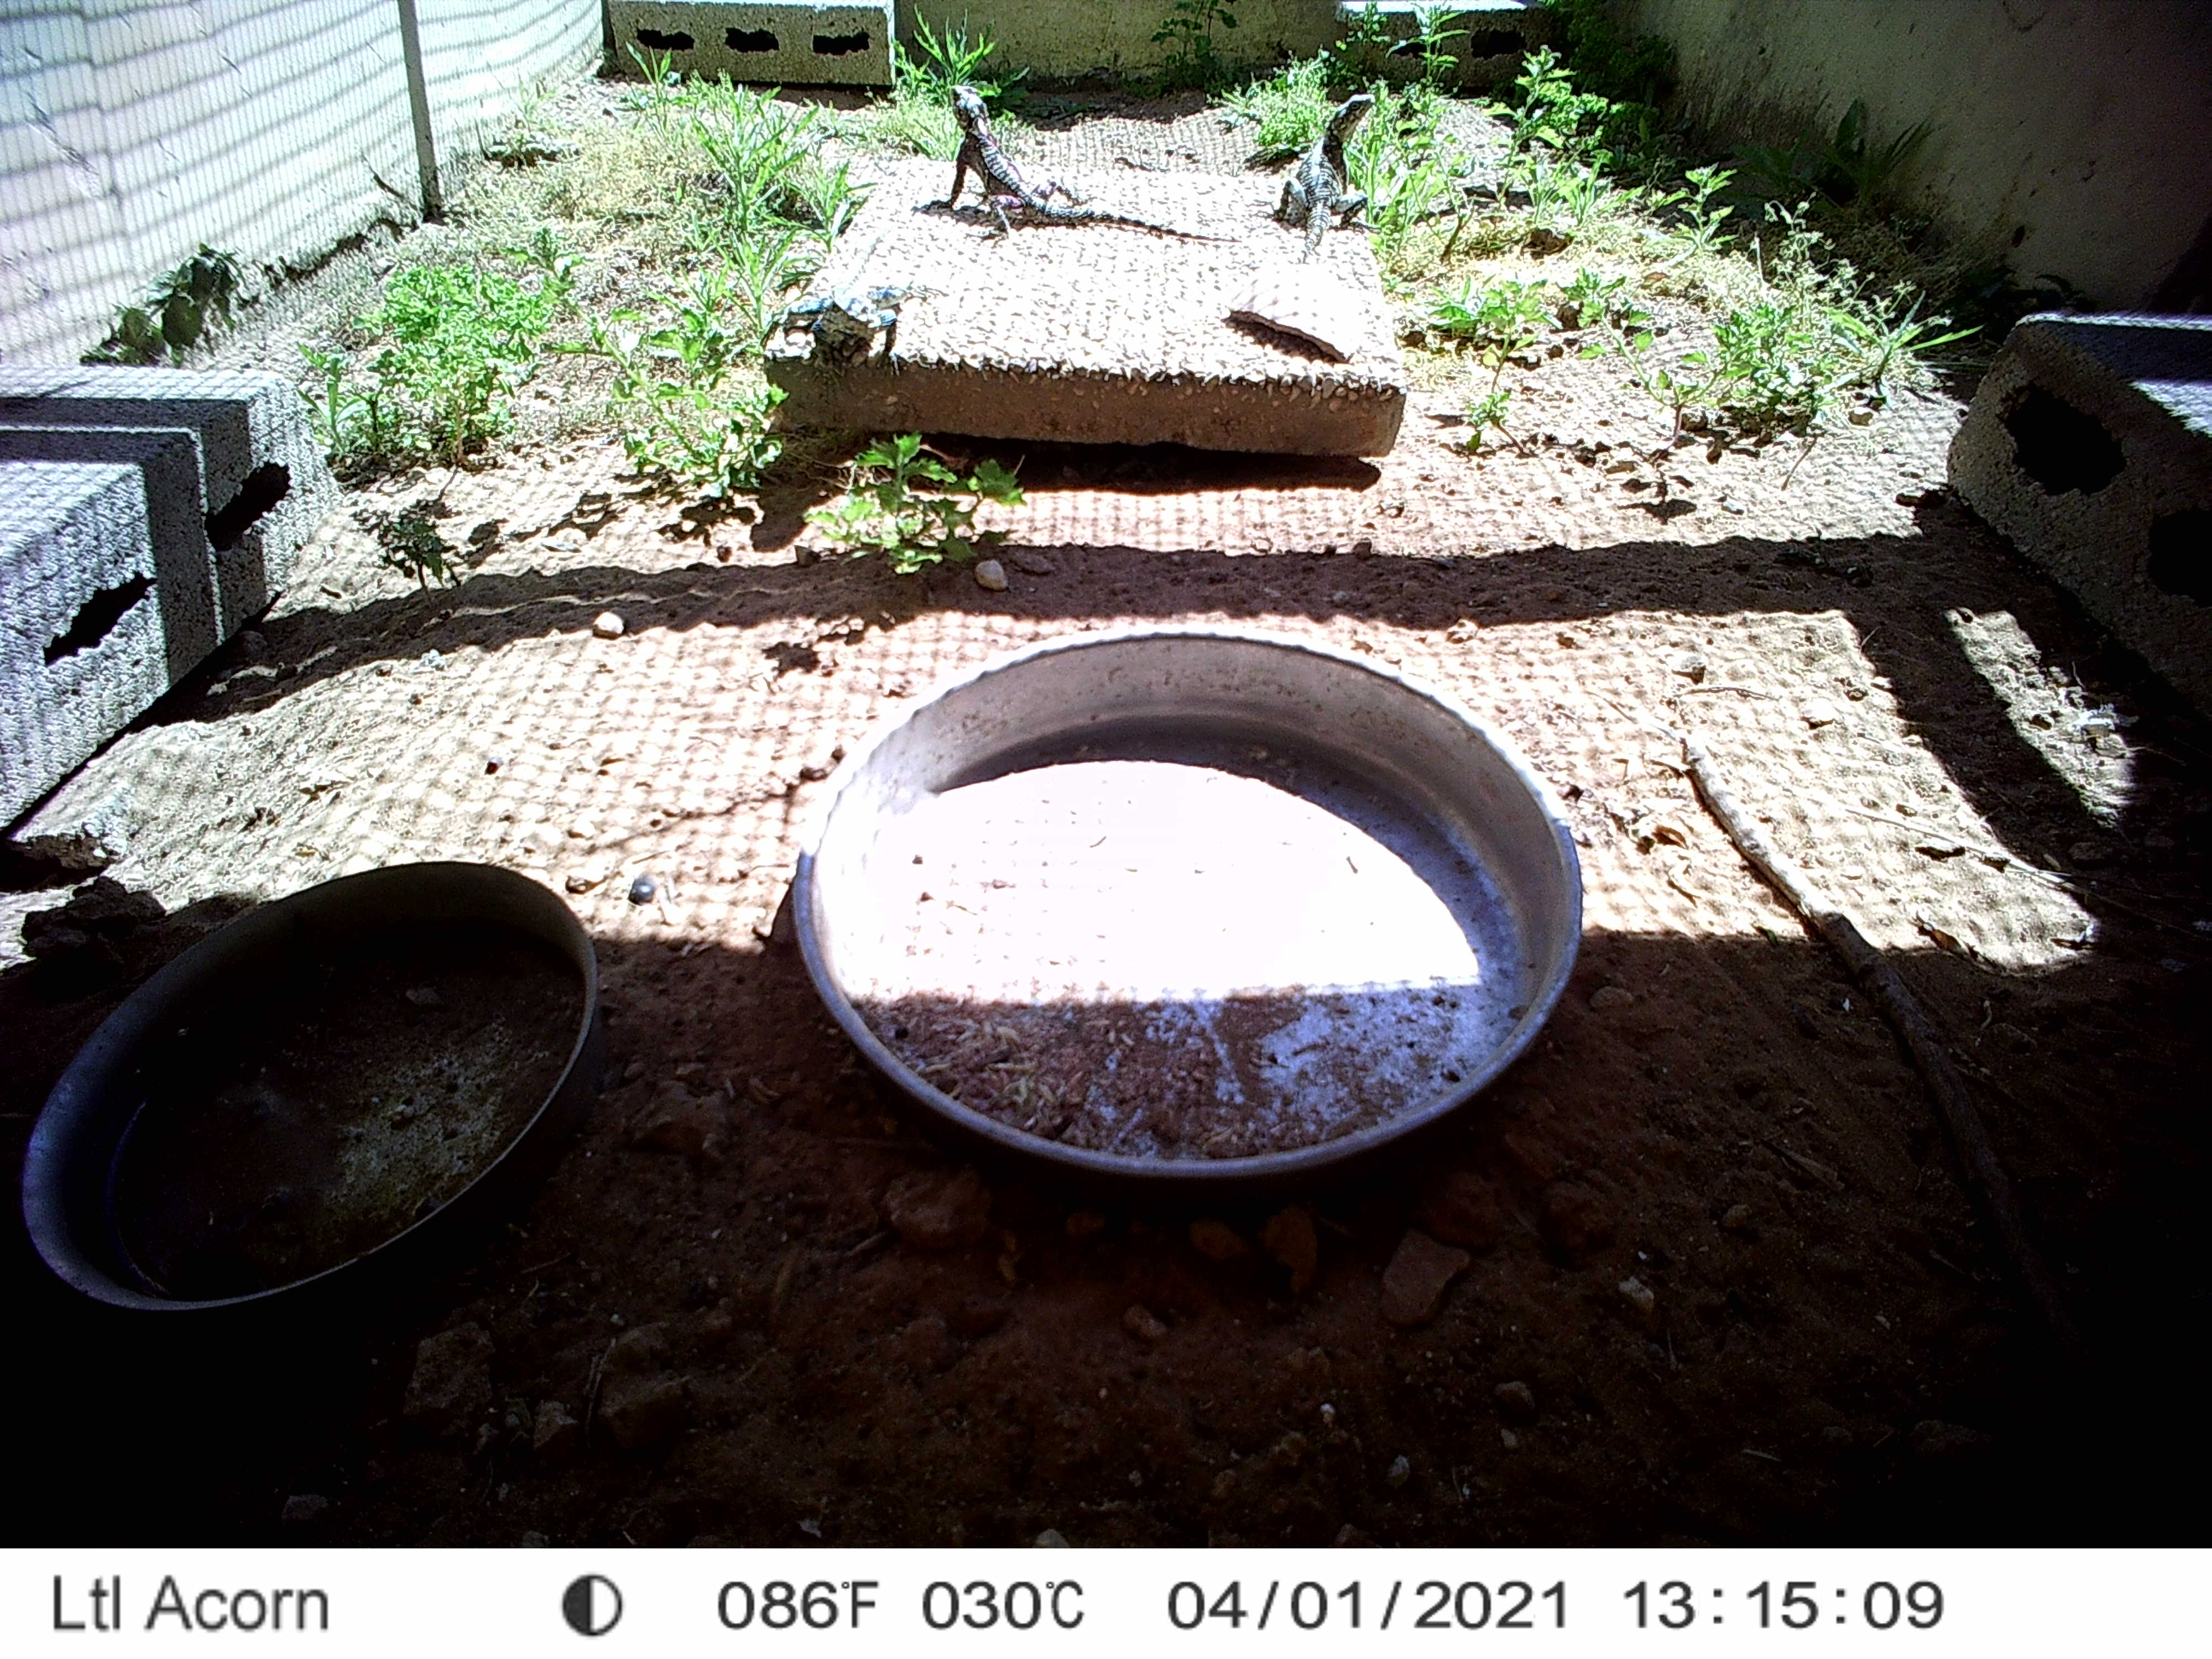lizard: (932, 80, 1242, 244), (1268, 89, 1379, 281)
